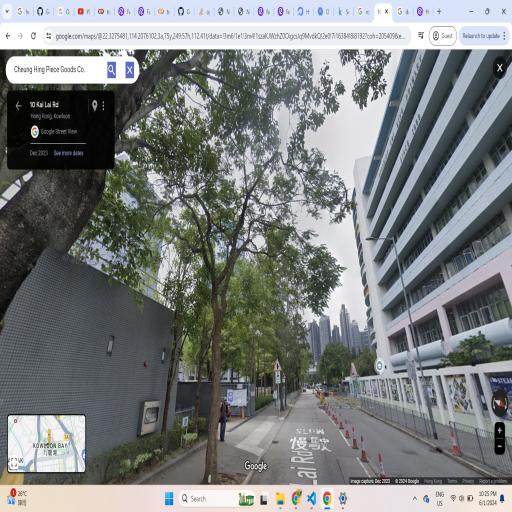Roads: (162, 380, 502, 475)
Trees: (128, 53, 250, 487), (252, 219, 324, 405)
